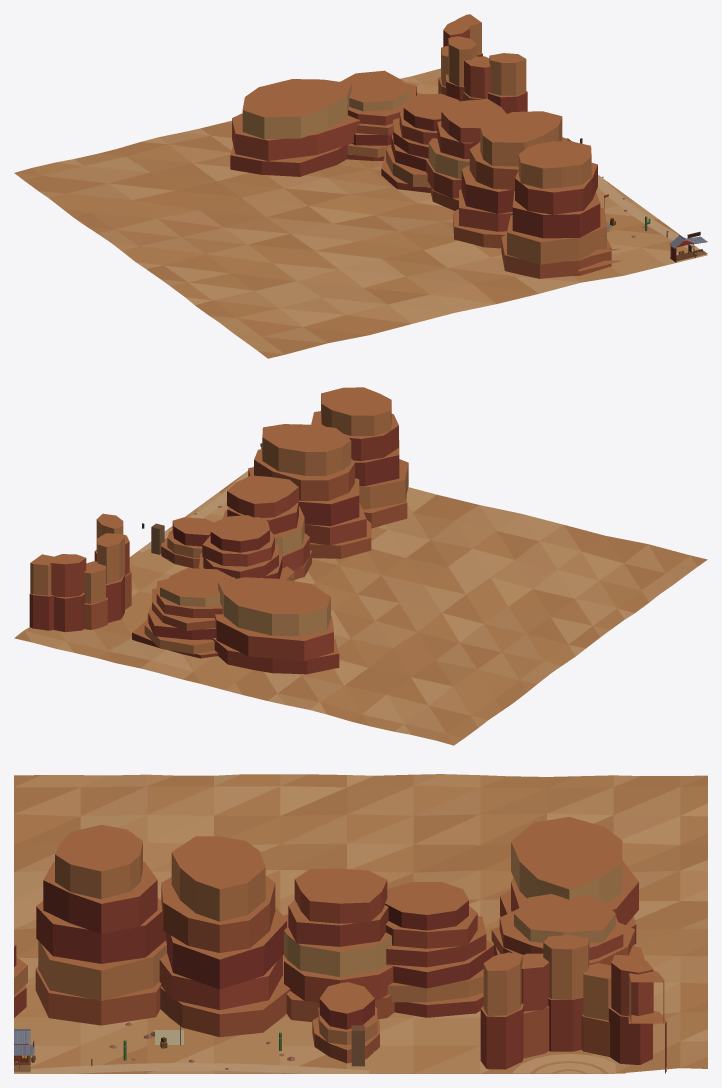
3 views of the same model, one above another, from view 1: azimuth 30°, elevation 25°; view 2: azimuth 150°, elevation 25°; view 3: azimuth 270°, elevation 25° (orthographic). The views are drawn at different scales.
Visible parts, largest first — view 1: baked; view 2: baked; view 3: baked.
Part boxes in pixels (x1,y1,x2,y2): baked: [14, 14, 707, 358]; baked: [14, 387, 707, 745]; baked: [14, 774, 707, 1073].
Bounding box in the file's own units: 125 × 28.97 × 125.
